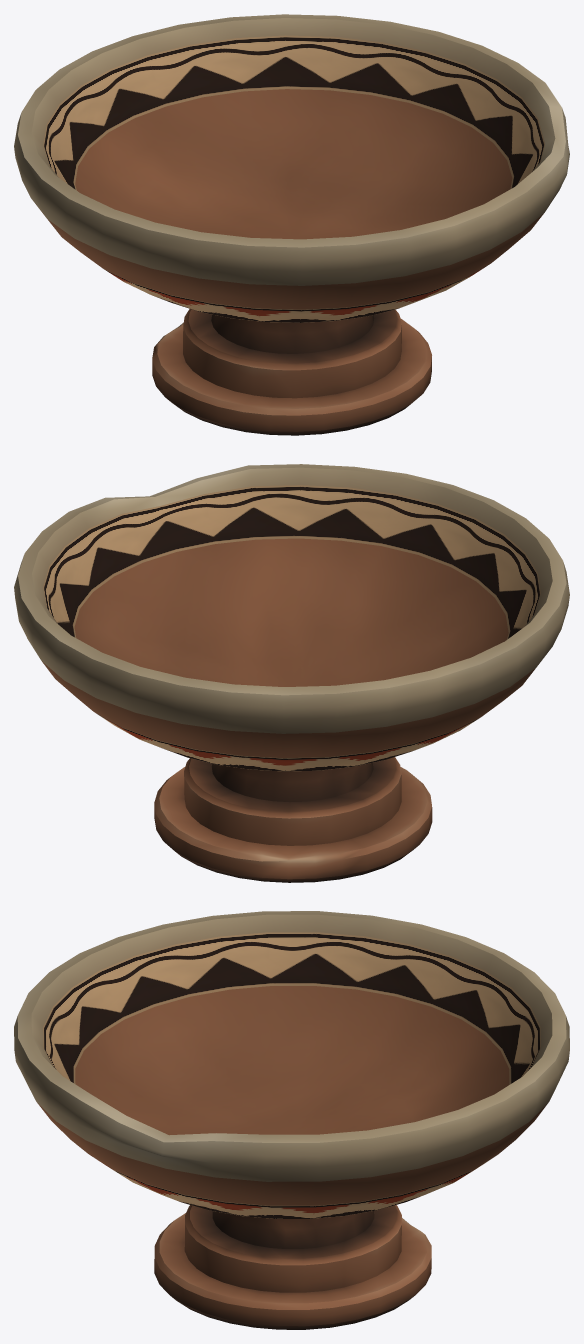
The model's file is clay_offering_bowl.fbx.
3 views of the same model, one above another, from view 1: azimuth 30°, elevation 25°; view 2: azimuth 150°, elevation 25°; view 3: azimuth 270°, elevation 25° (orthographic).
Parts seen in each view (by area): view 1: clay_offering_bowl_Body; view 2: clay_offering_bowl_Body; view 3: clay_offering_bowl_Body.
Boxes of the visible parts, box(x1,y1,x2,y2) form: clay_offering_bowl_Body: box(14, 14, 569, 435); clay_offering_bowl_Body: box(14, 464, 569, 882); clay_offering_bowl_Body: box(14, 911, 569, 1329).
Bounding box in the file's own units: 0.2195 × 0.109 × 0.2195.
Materials: 1 (1 with a texture image).
